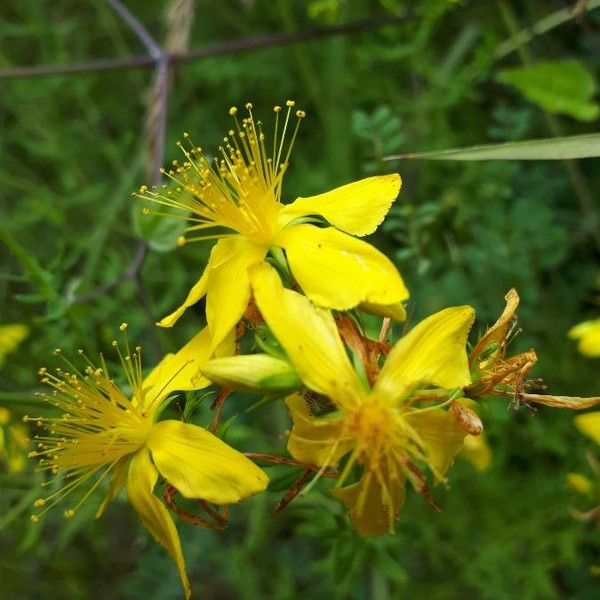obstacle: (122, 98, 534, 515)
